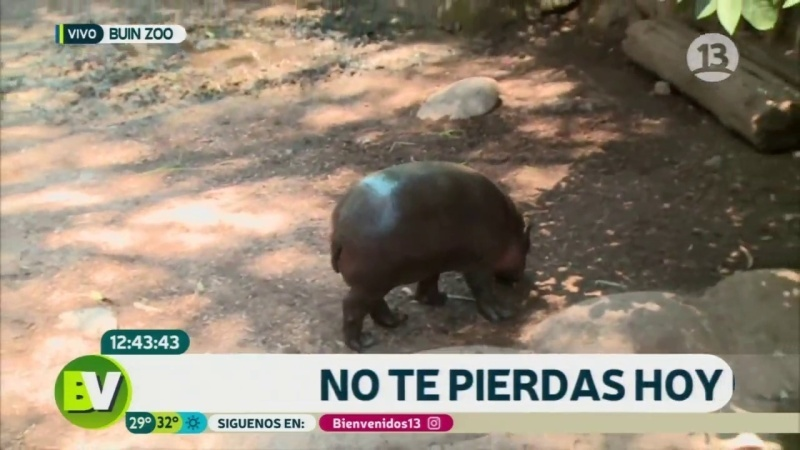hipopotamo: (317, 157, 566, 353)
